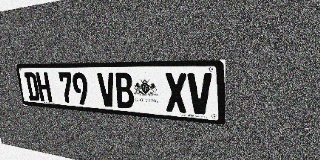7: (57, 72, 75, 104)
9: (71, 73, 90, 105)
B: (114, 73, 135, 109)
D: (24, 72, 40, 101)
H: (35, 72, 52, 102)
V: (187, 73, 212, 115), (97, 73, 117, 107)
X: (164, 73, 188, 113)
